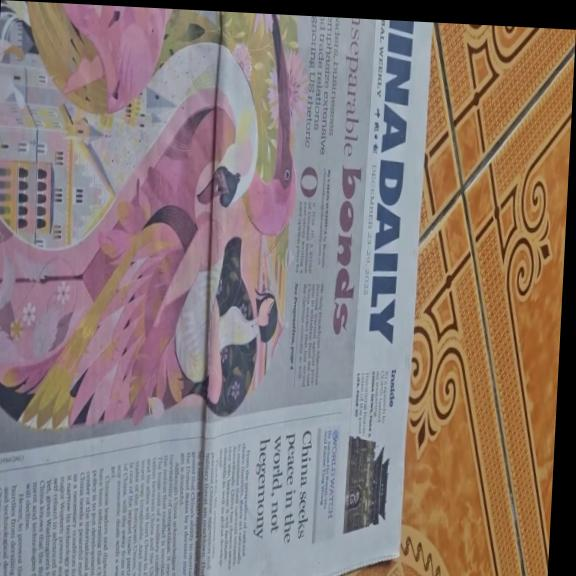Kertas: (0, 2, 427, 576)
